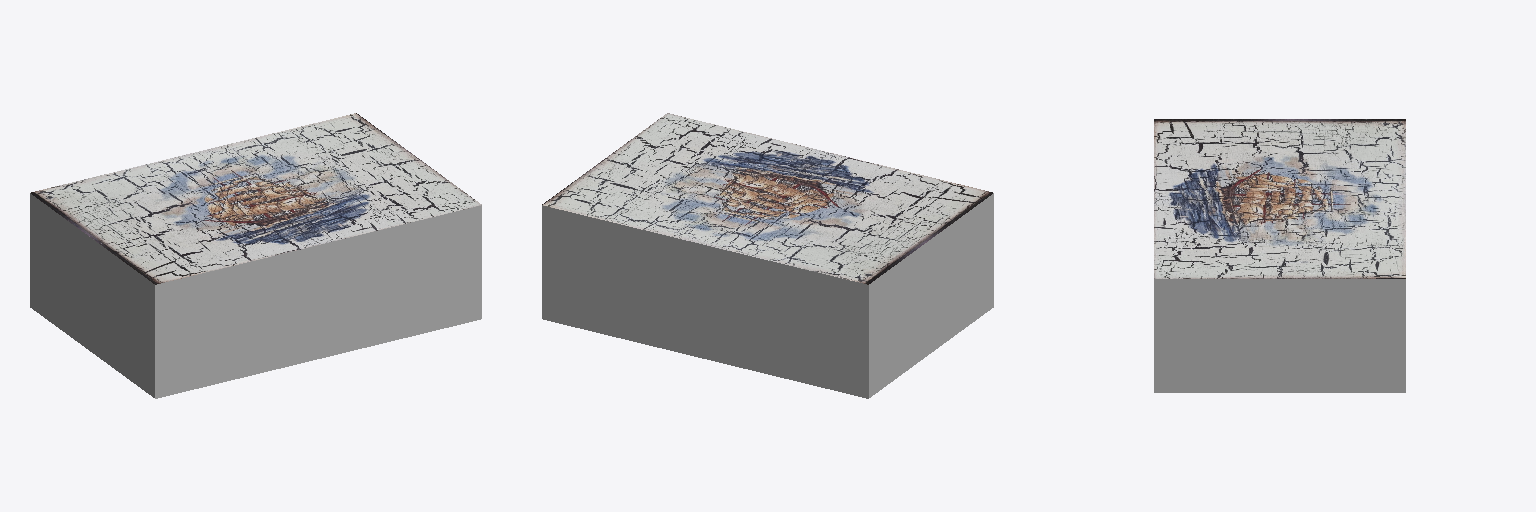
The picture shows the model from 3 angles: view 1: azimuth 30°, elevation 25°; view 2: azimuth 150°, elevation 25°; view 3: azimuth 270°, elevation 25°; orthographic projection.
Visible parts, largest first — view 1: Cube; view 2: Cube; view 3: Cube.
Boxes of the visible parts, <box> form: Cube: <box>30,113,481,398</box>; Cube: <box>542,113,993,398</box>; Cube: <box>1154,119,1405,392</box>.
Size of the model in its own units: 3 by 1 by 2.
Materials: 6 (2 with a texture image).